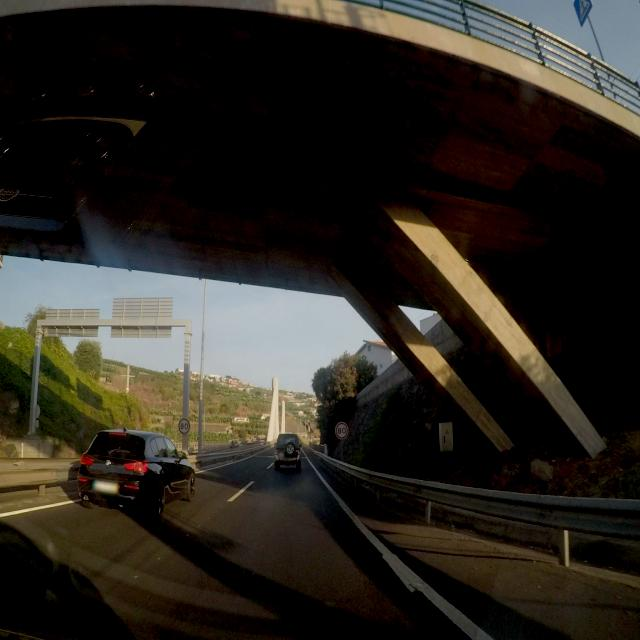car: (77, 428, 196, 518), (274, 432, 302, 471)
